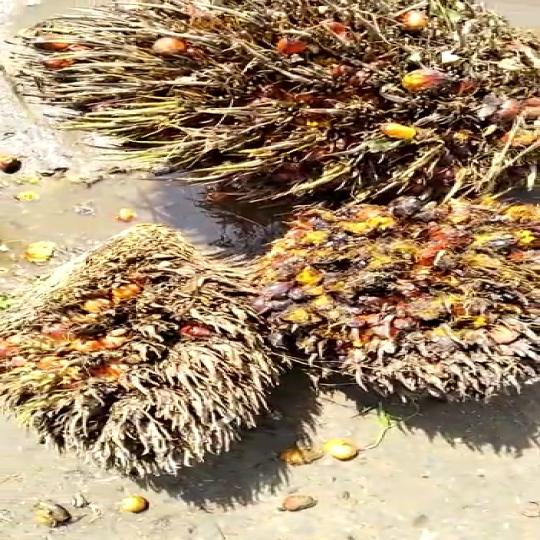terlalu masak: (0, 0, 537, 207), (230, 176, 540, 419), (0, 226, 262, 485)
